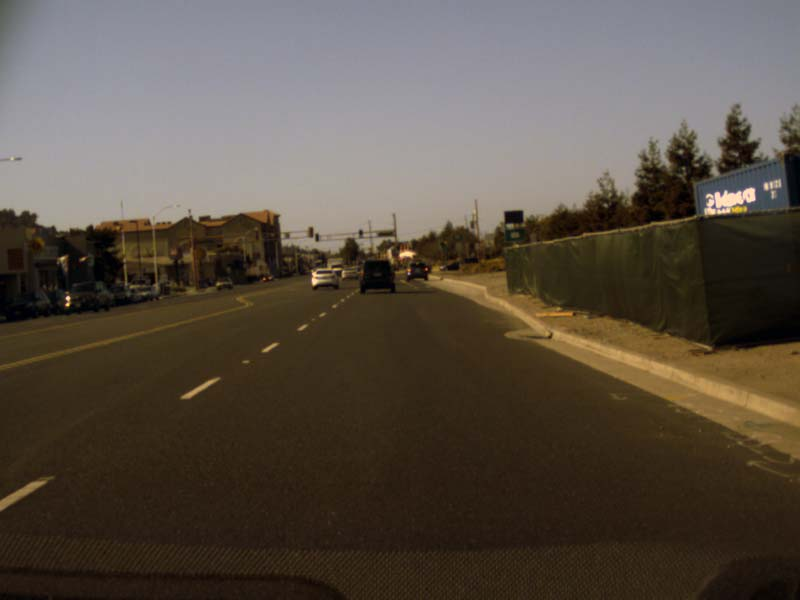Green: (358, 228, 363, 238)
